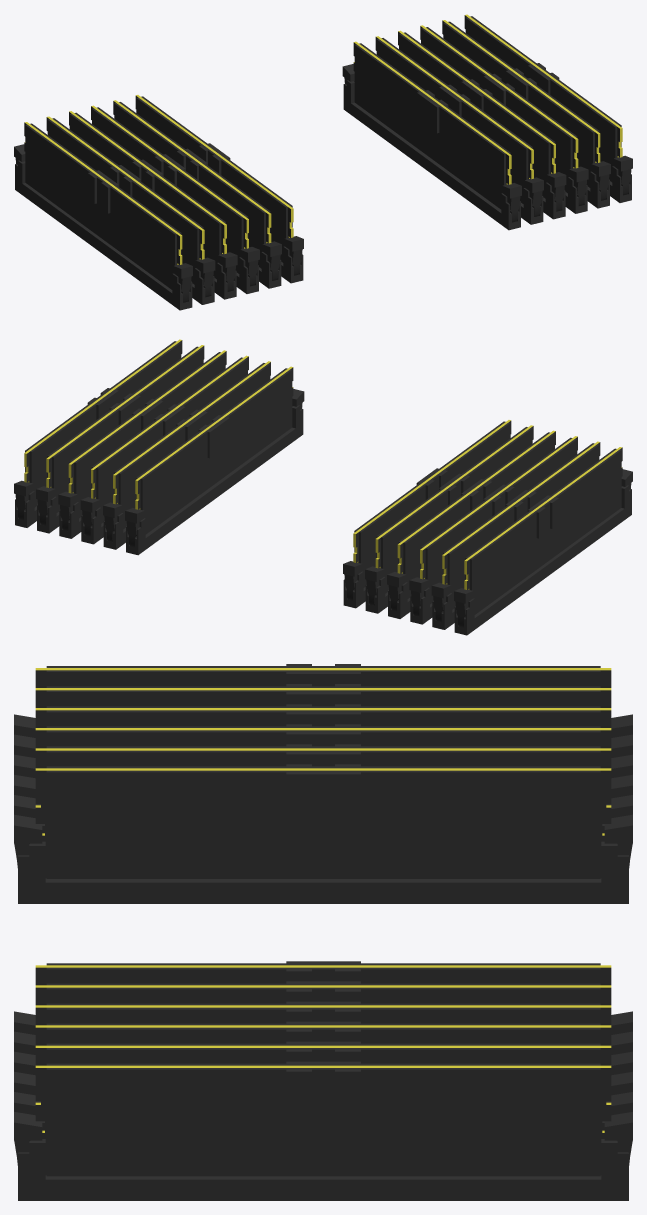
The model's file is cosmo-memory-1.glb.
3 renders of one model, top to bottom at view 1: azimuth 30°, elevation 25°; view 2: azimuth 150°, elevation 25°; view 3: azimuth 270°, elevation 25°, orthographic. The views are drawn at different scales.
Visible parts, largest first — view 1: MO-329 REV G DDR5 DIMM REP.026, MO-329 REV G DDR5 DIMM REP.022, MO-329 REV G DDR5 DIMM REP.025, MO-329 REV G DDR5 DIMM REP.031, Cube.125, MO-329 REV G DDR5 DIMM REP.024, MO-329 REV G DDR5 DIMM REP.023, MO-329 REV G DDR5 DIMM REP.032, MO-329 REV G DDR5 DIMM REP.027, MO-329 REV G DDR5 DIMM REP.028, MO-329 REV G DDR5 DIMM REP.030, MO-329 REV G DDR5 DIMM REP.029 (+12 smaller); view 2: MO-329 REV G DDR5 DIMM REP.026, MO-329 REV G DDR5 DIMM REP.022, MO-329 REV G DDR5 DIMM REP.025, MO-329 REV G DDR5 DIMM REP.030, Cube.125, MO-329 REV G DDR5 DIMM REP.024, MO-329 REV G DDR5 DIMM REP.023, MO-329 REV G DDR5 DIMM REP.032, MO-329 REV G DDR5 DIMM REP.027, MO-329 REV G DDR5 DIMM REP.031, MO-329 REV G DDR5 DIMM REP.028, MO-329 REV G DDR5 DIMM REP.029 (+12 smaller); view 3: Cube.125, MO-329 REV G DDR5 DIMM REP.023, CMP-002-00026-14_DDR5_288P_JEDEC_SO-023D_3SLOT_OPT2.036, CMP-002-00026-14_DDR5_288P_JEDEC_SO-023D_3SLOT_OPT2.031, MO-329 REV G DDR5 DIMM REP.025, MO-329 REV G DDR5 DIMM REP.032, MO-329 REV G DDR5 DIMM REP.027, MO-329 REV G DDR5 DIMM REP.022, MO-329 REV G DDR5 DIMM REP.029, MO-329 REV G DDR5 DIMM REP.030, MO-329 REV G DDR5 DIMM REP.031, MO-329 REV G DDR5 DIMM REP.024 (+12 smaller).
Boxes of the visible parts, x1,y1,x2,y2 form: MO-329 REV G DDR5 DIMM REP.026: [24, 122, 182, 289]; MO-329 REV G DDR5 DIMM REP.022: [353, 41, 511, 209]; MO-329 REV G DDR5 DIMM REP.025: [442, 20, 600, 187]; MO-329 REV G DDR5 DIMM REP.031: [375, 36, 533, 203]; Cube.125: [464, 14, 622, 182]; MO-329 REV G DDR5 DIMM REP.024: [46, 116, 204, 284]; MO-329 REV G DDR5 DIMM REP.023: [135, 95, 293, 262]; MO-329 REV G DDR5 DIMM REP.032: [113, 100, 271, 268]; MO-329 REV G DDR5 DIMM REP.027: [420, 25, 578, 193]; MO-329 REV G DDR5 DIMM REP.028: [69, 111, 226, 279]; MO-329 REV G DDR5 DIMM REP.030: [91, 105, 248, 273]; MO-329 REV G DDR5 DIMM REP.029: [398, 30, 555, 198]; MO-329 REV G DDR5 DIMM REP.026: [464, 447, 622, 614]; MO-329 REV G DDR5 DIMM REP.022: [135, 366, 293, 534]; MO-329 REV G DDR5 DIMM REP.025: [46, 345, 204, 512]; MO-329 REV G DDR5 DIMM REP.030: [397, 430, 555, 598]; Cube.125: [24, 339, 182, 507]; MO-329 REV G DDR5 DIMM REP.024: [442, 441, 600, 609]; MO-329 REV G DDR5 DIMM REP.023: [353, 420, 511, 587]; MO-329 REV G DDR5 DIMM REP.032: [375, 425, 533, 593]; MO-329 REV G DDR5 DIMM REP.027: [68, 350, 226, 518]; MO-329 REV G DDR5 DIMM REP.031: [113, 361, 270, 528]; MO-329 REV G DDR5 DIMM REP.028: [420, 436, 577, 604]; MO-329 REV G DDR5 DIMM REP.029: [91, 355, 248, 523]; Cube.125: [35, 1061, 611, 1176]; MO-329 REV G DDR5 DIMM REP.023: [35, 764, 611, 878]; CMP-002-00026-14_DDR5_288P_JEDEC_SO-023D_3SLOT_OPT2.036: [14, 814, 632, 903]; CMP-002-00026-14_DDR5_288P_JEDEC_SO-023D_3SLOT_OPT2.031: [14, 1112, 632, 1200]; MO-329 REV G DDR5 DIMM REP.025: [35, 1041, 611, 1101]; MO-329 REV G DDR5 DIMM REP.032: [35, 744, 611, 803]; MO-329 REV G DDR5 DIMM REP.027: [35, 1021, 611, 1045]; MO-329 REV G DDR5 DIMM REP.022: [35, 961, 611, 985]; MO-329 REV G DDR5 DIMM REP.029: [35, 1001, 611, 1025]; MO-329 REV G DDR5 DIMM REP.030: [35, 724, 611, 748]; MO-329 REV G DDR5 DIMM REP.031: [35, 981, 611, 1005]; MO-329 REV G DDR5 DIMM REP.024: [35, 684, 611, 707].
Bounding box in the file's own units: 0.2239 × 0.0329 × 0.1434.
